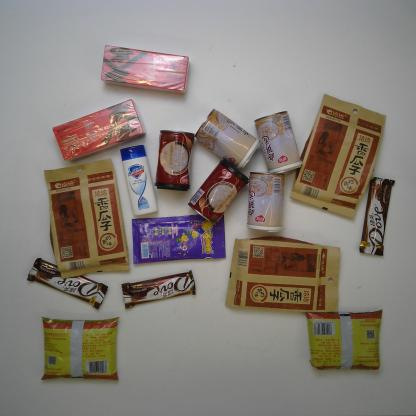Candy: (131, 212, 228, 266)
Canned Food: (186, 159, 250, 226), (194, 108, 260, 171), (254, 110, 304, 176), (152, 129, 196, 192), (246, 171, 285, 234)
Chocolate: (25, 258, 109, 310), (120, 268, 197, 310), (358, 176, 396, 258)
Dried Food: (288, 93, 387, 219), (43, 157, 132, 280), (223, 235, 342, 314)
Instant Drink: (52, 97, 148, 163), (100, 43, 191, 96)
Personal Hygiene: (119, 144, 160, 217)
Seasoner: (38, 315, 121, 382), (305, 308, 384, 372)
